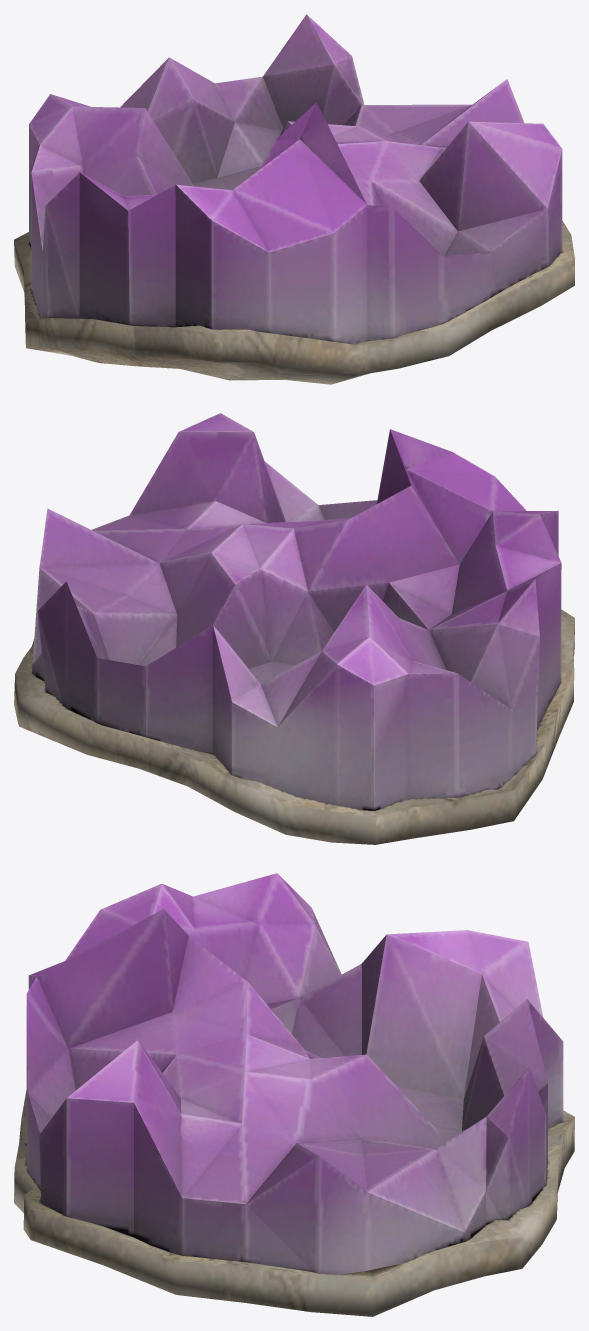
The model's file is AmethystGeode_Polished.glb.
3 views of the same model, one above another, from view 1: azimuth 30°, elevation 25°; view 2: azimuth 150°, elevation 25°; view 3: azimuth 270°, elevation 25° (orthographic). The views are drawn at different scales.
Visible parts, largest first — view 1: AmethystGeode_Polished; view 2: AmethystGeode_Polished; view 3: AmethystGeode_Polished.
Part boxes in pixels (x1,y1,x2,y2): AmethystGeode_Polished: (14, 14, 574, 384); AmethystGeode_Polished: (14, 413, 574, 844); AmethystGeode_Polished: (14, 873, 574, 1316).
Bounding box in the file's own units: 0.4821 × 0.2757 × 0.4277.
1 material, 1 textured.
